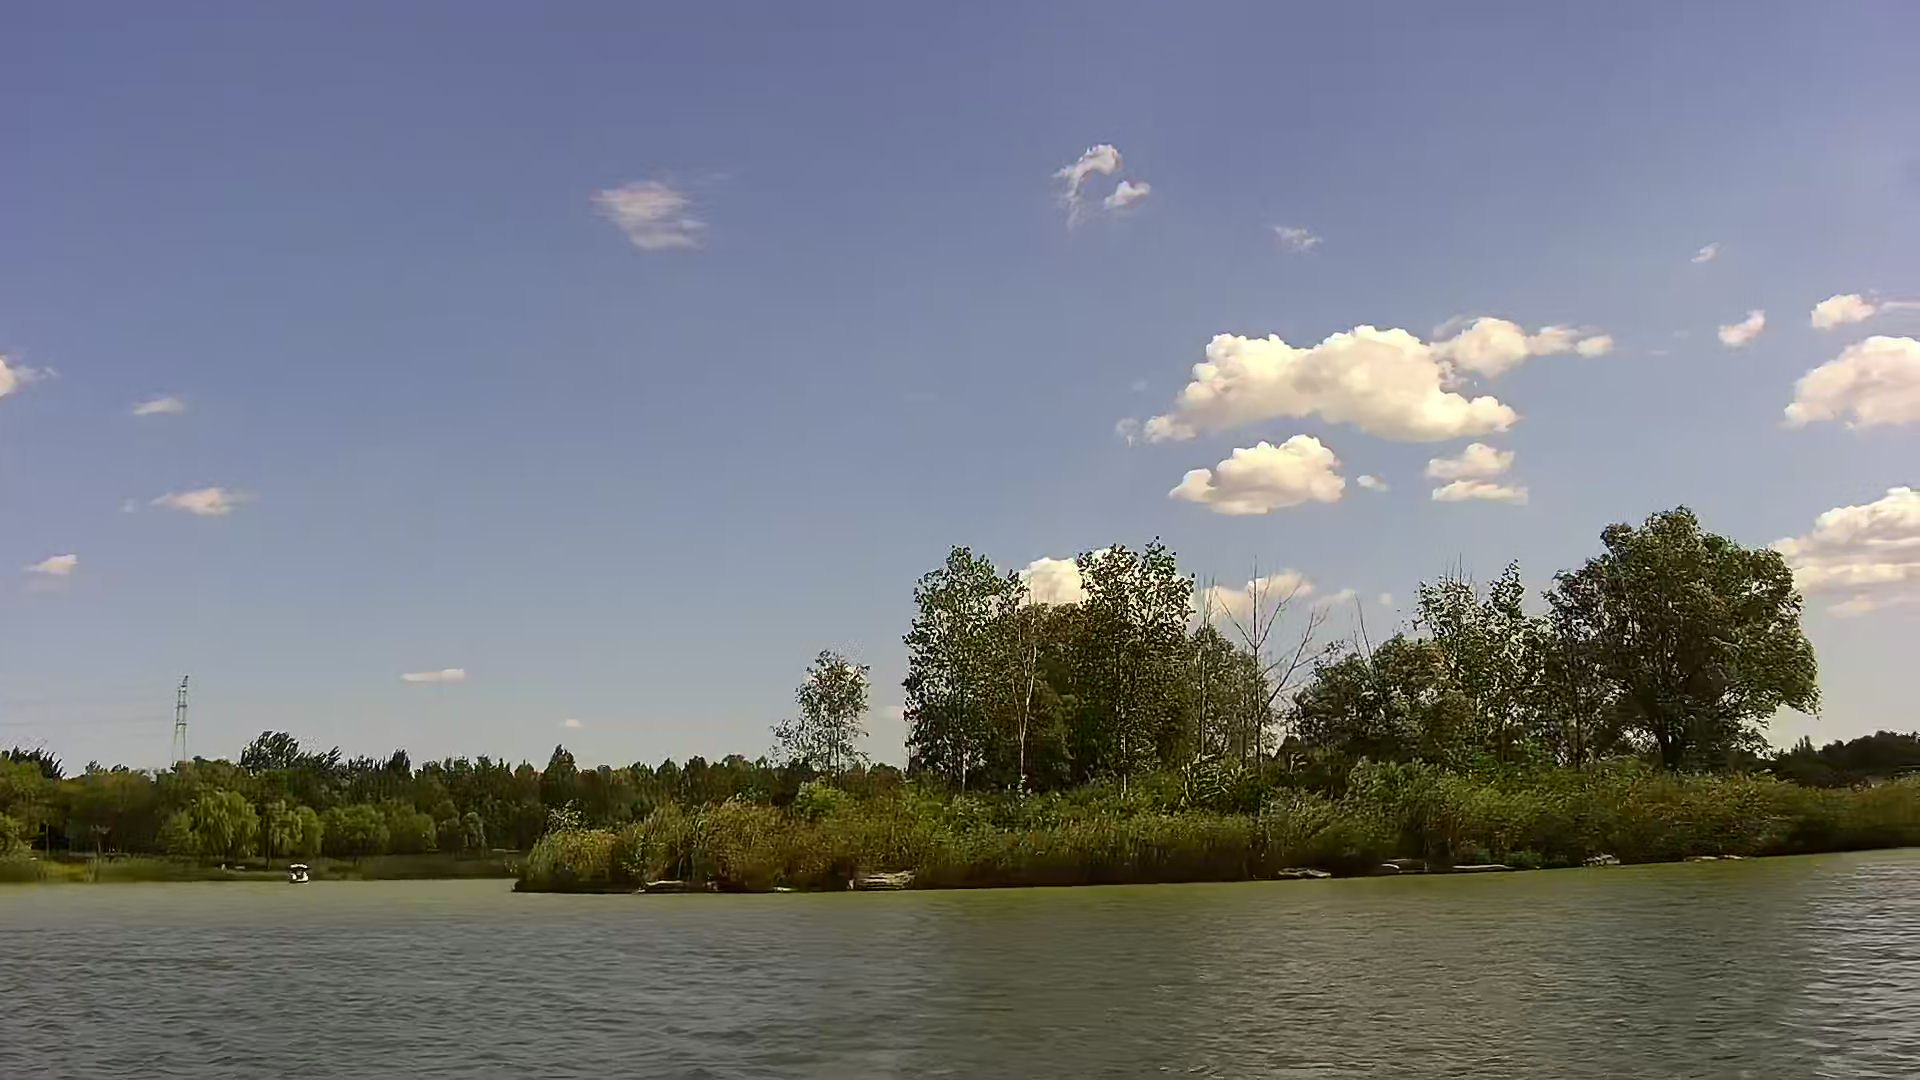rock: (851, 862, 909, 891)
